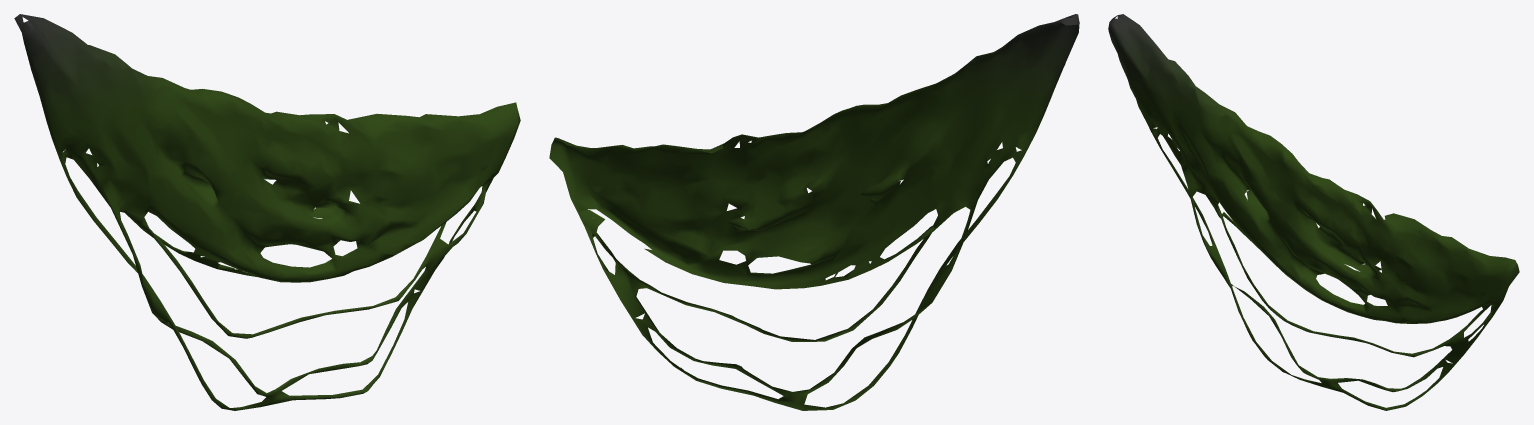
File: SM_Sewer_Slime_04.fbx
3 renders of one model, left to right at view 1: azimuth 30°, elevation 25°; view 2: azimuth 150°, elevation 25°; view 3: azimuth 330°, elevation 25°, orthographic. The views are drawn at different scales.
Visible parts, largest first — view 1: attribadjustcolor11; view 2: attribadjustcolor11; view 3: attribadjustcolor11.
Part boxes in pixels (<box>): attribadjustcolor11: <box>14,14,520,410</box>; attribadjustcolor11: <box>549,14,1079,410</box>; attribadjustcolor11: <box>1108,14,1519,410</box>.
Bounding box in the file's own units: 352 × 301 × 55.65.
